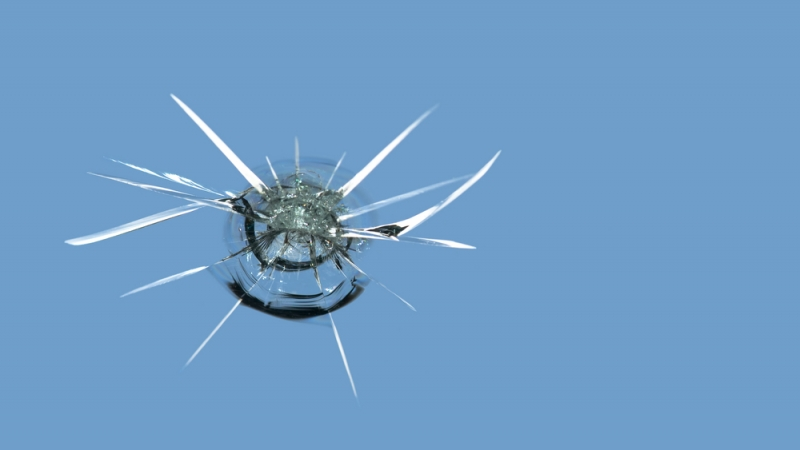bullseye: (52, 61, 540, 410)
